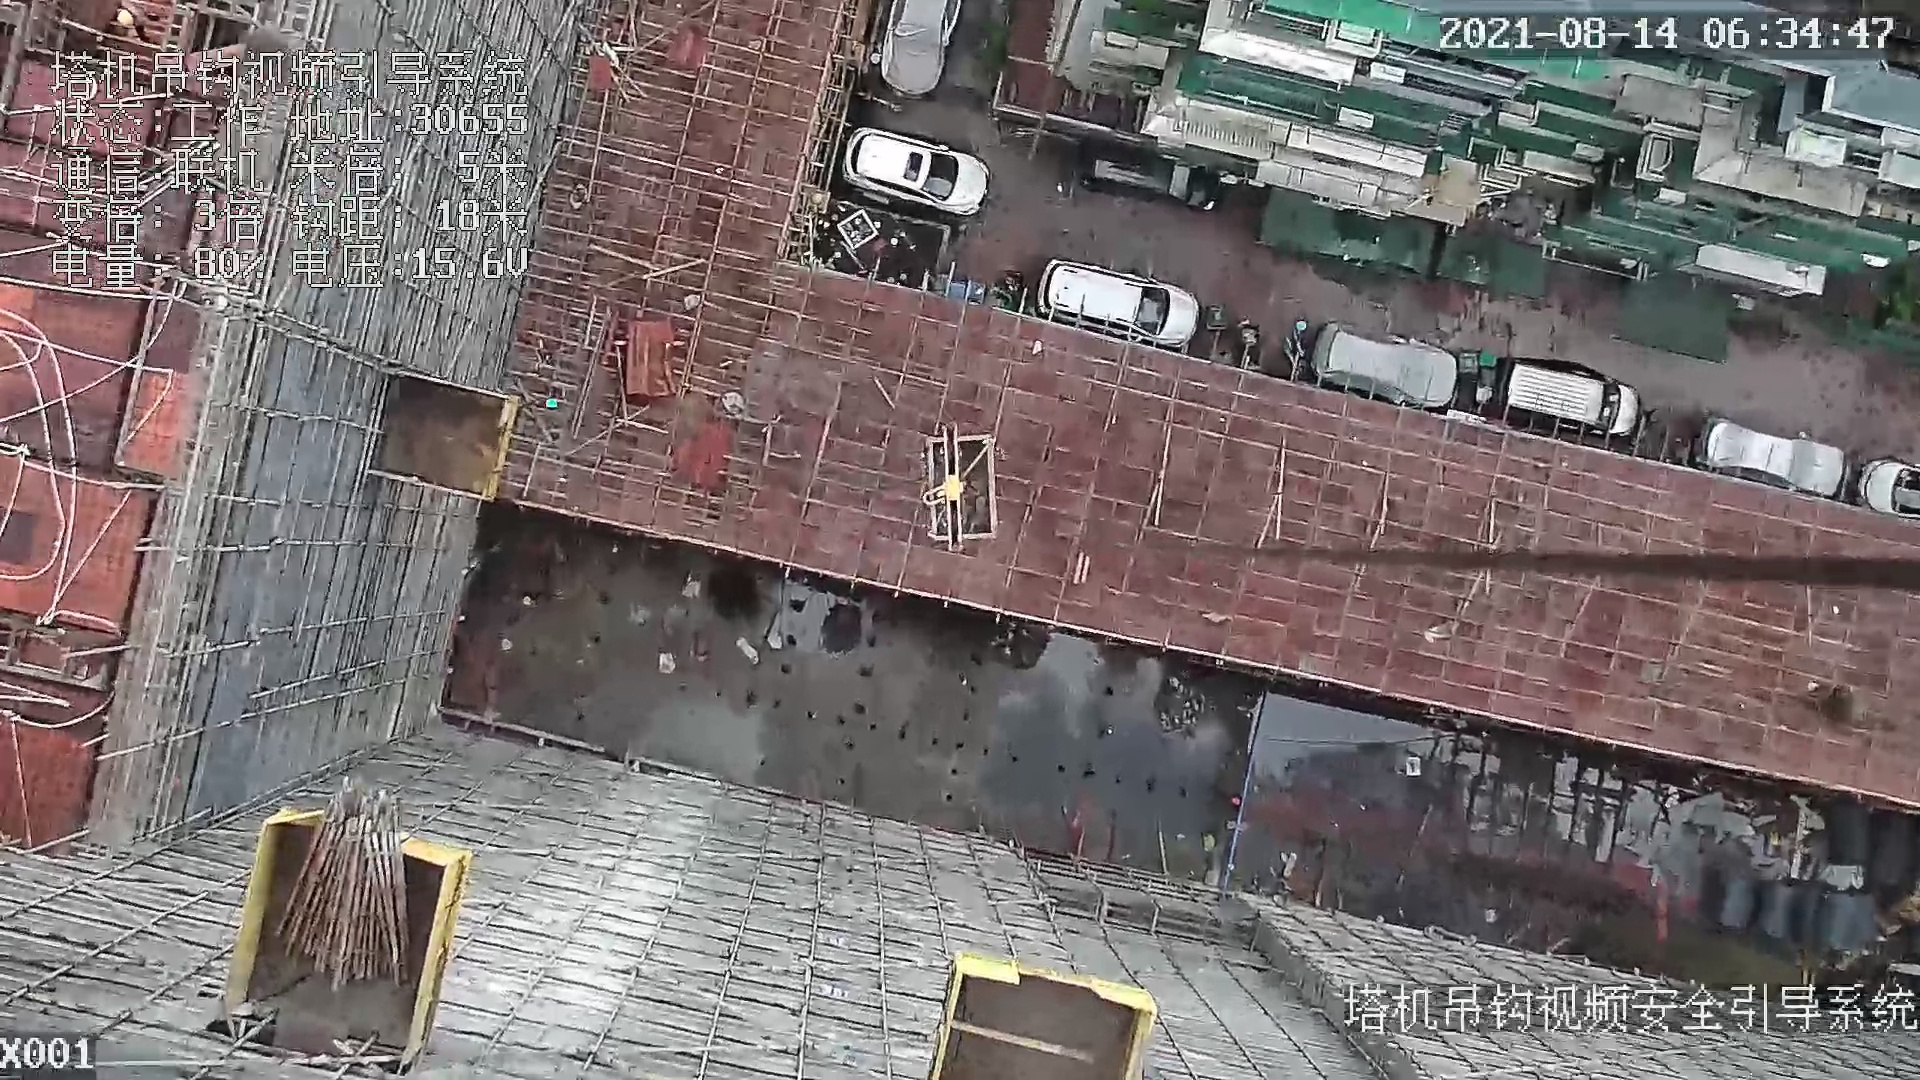hook: (919, 418, 968, 554)
hopper: (922, 422, 1009, 551)
scaffold: (269, 760, 435, 1004)
